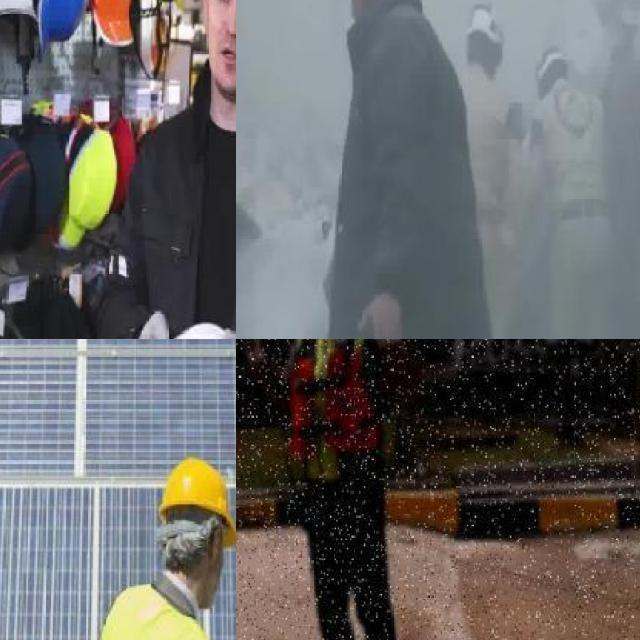apron: (133, 308, 168, 339), (236, 339, 268, 369)
